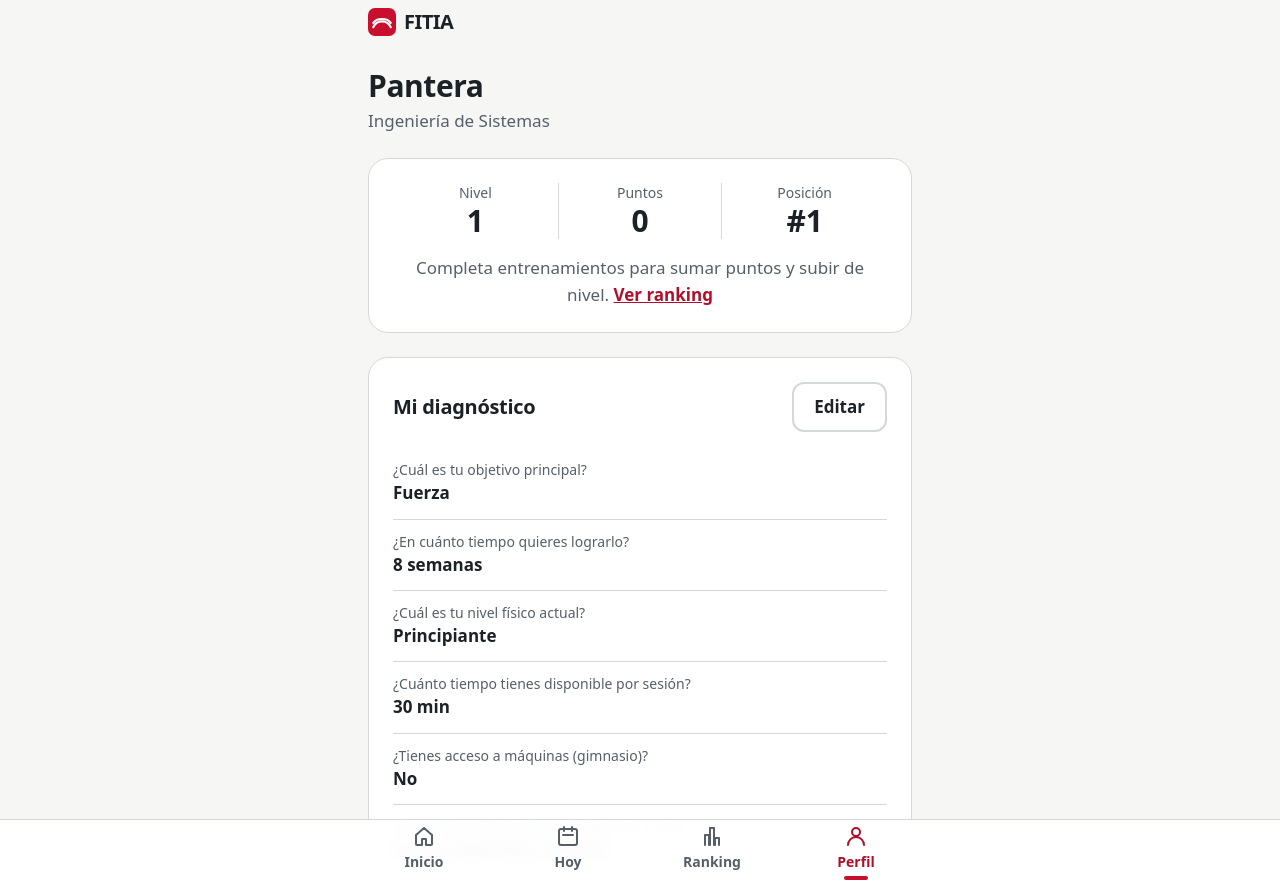
Scenario: HU 6 y HU 7 — perfil › sin cambios no envía la petición
Click the button "Editar" at (840, 407), box 792,382 -> 887,432
(page scrolled)
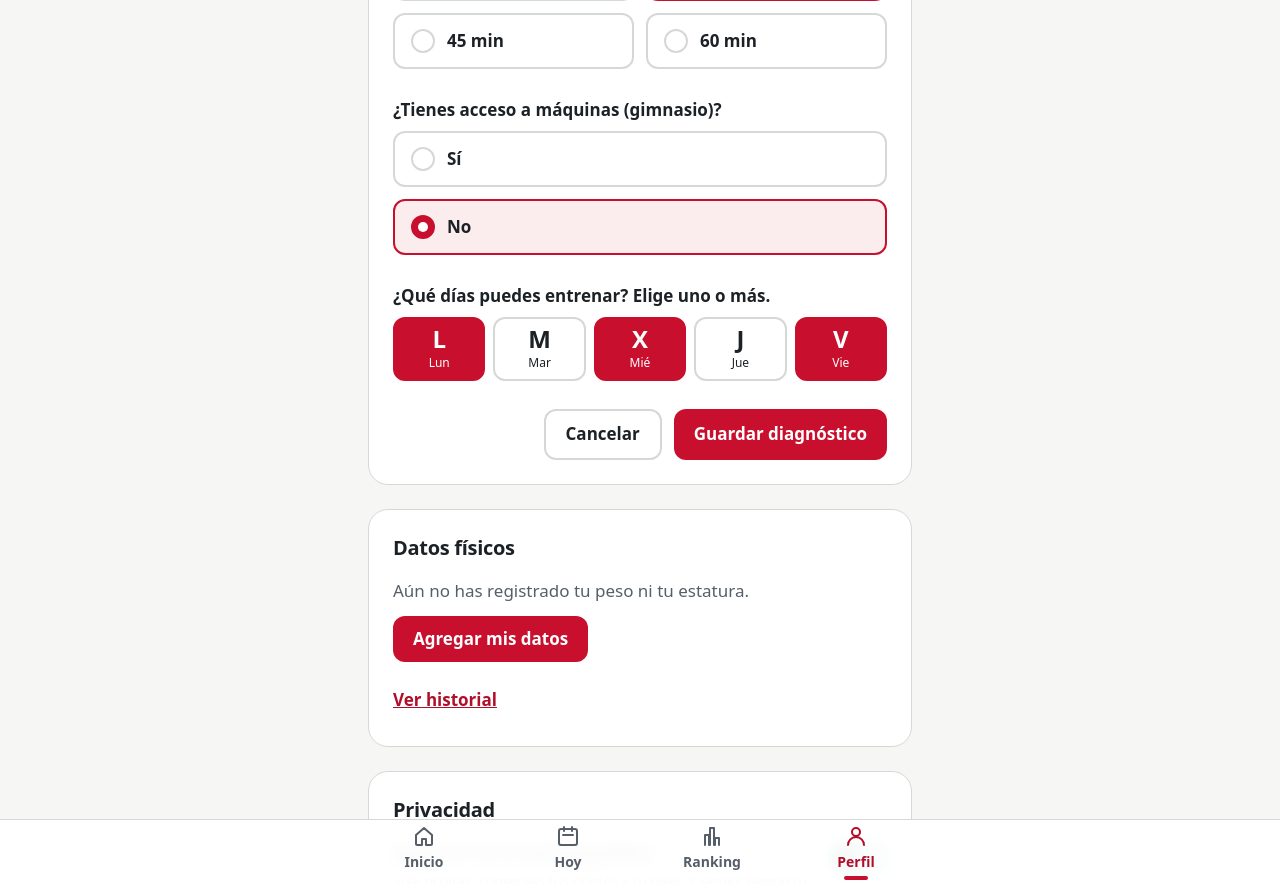
Click the button "Guardar diagnóstico" at (780, 435), box 674,409 -> 887,460
(page scrolled)
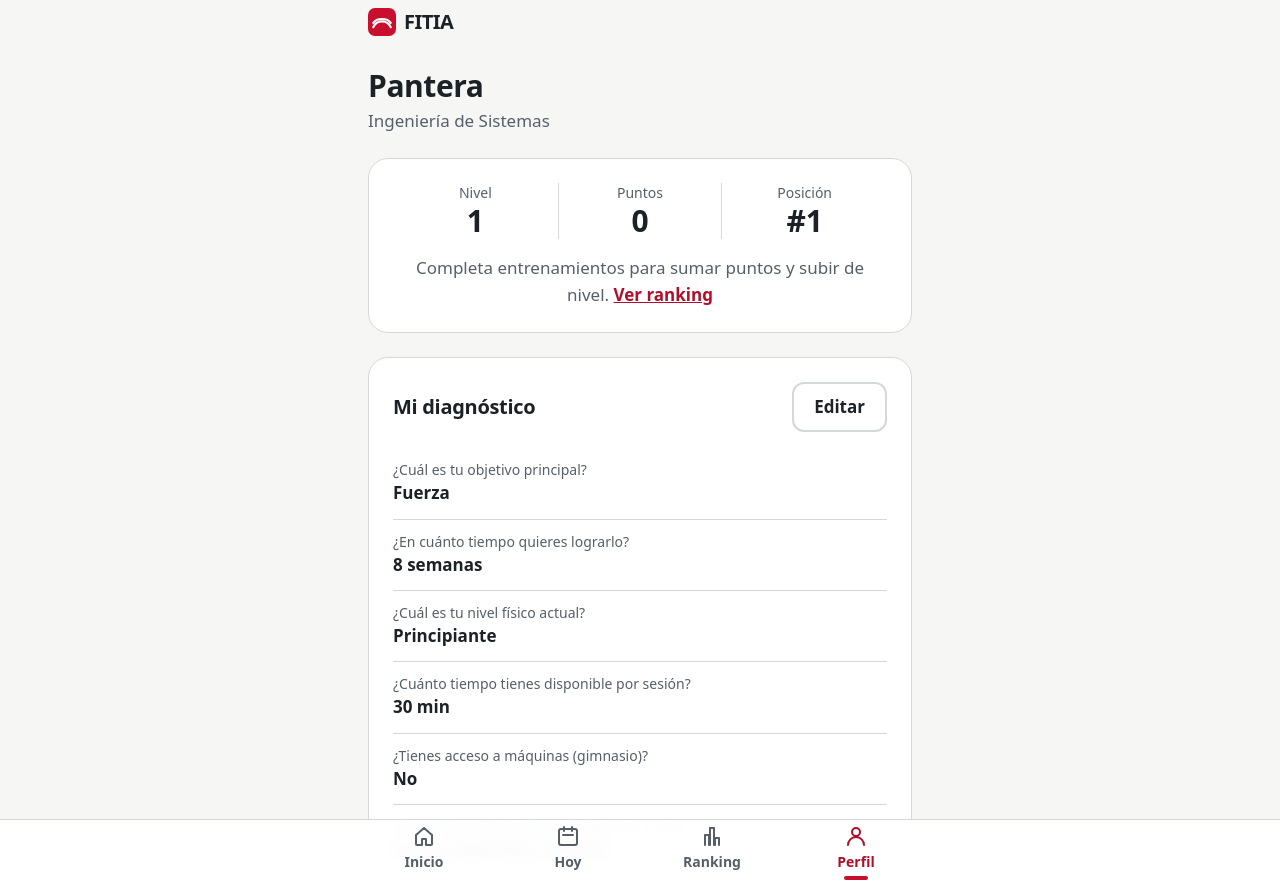
Expected: the button "Editar" is shown, 792,382 -> 887,432
